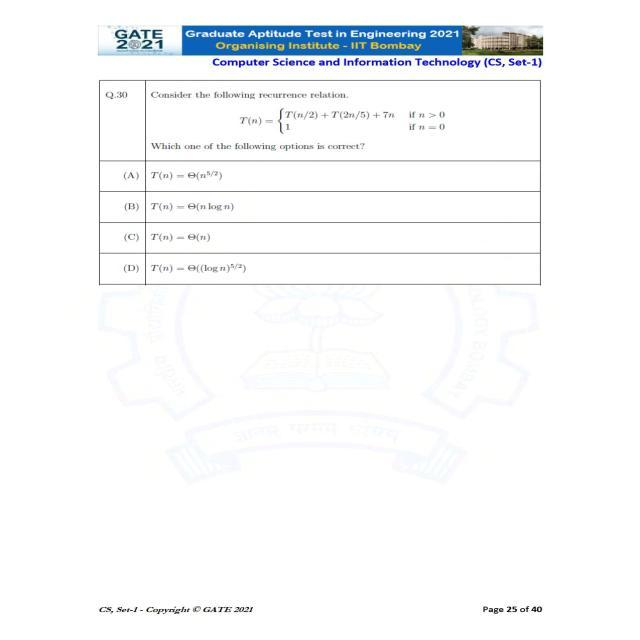Answer_Block: (62, 163, 570, 320)
Question_Answer_Block: (62, 73, 570, 320)
Question_Block: (62, 73, 570, 160)
Question_Paper_Area: (62, 73, 570, 320)
